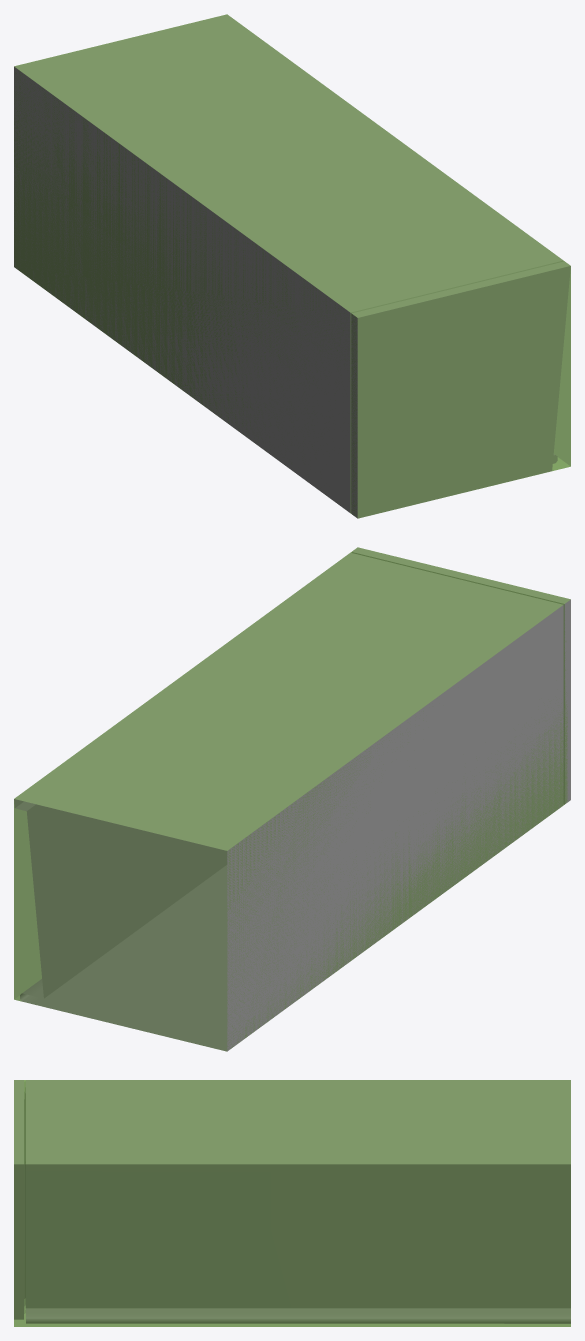
File: M_md_StallSign_end_02.fbx
3 renders of one model, top to bottom at view 1: azimuth 30°, elevation 25°; view 2: azimuth 150°, elevation 25°; view 3: azimuth 270°, elevation 25°, orthographic. The views are drawn at different scales.
Parts seen in each view (by area): view 1: M_md_StallSign_end_02, M_md_StallSign_end_02_col_01; view 2: M_md_StallSign_end_02, M_md_StallSign_end_02_col_01; view 3: M_md_StallSign_end_02_col_01, M_md_StallSign_end_02.
Boxes of the visible parts, x1,y1,x2,y2 form: M_md_StallSign_end_02: (14, 14, 570, 518); M_md_StallSign_end_02_col_01: (14, 14, 570, 518); M_md_StallSign_end_02: (14, 547, 570, 1051); M_md_StallSign_end_02_col_01: (14, 547, 570, 1051); M_md_StallSign_end_02_col_01: (14, 1080, 570, 1326); M_md_StallSign_end_02: (14, 1080, 570, 1323).
Size of the model in its own units: 35.83 by 32.23 by 100.
